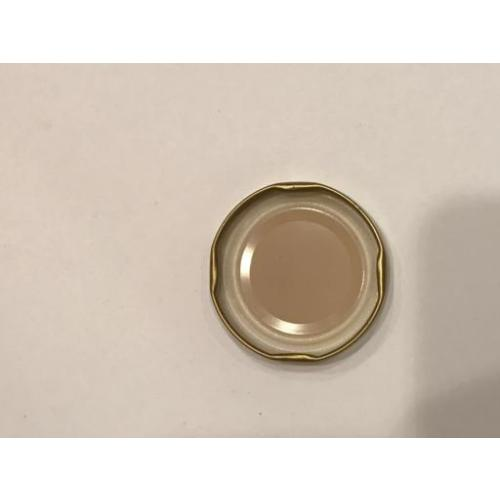metal: (211, 178, 391, 368)
